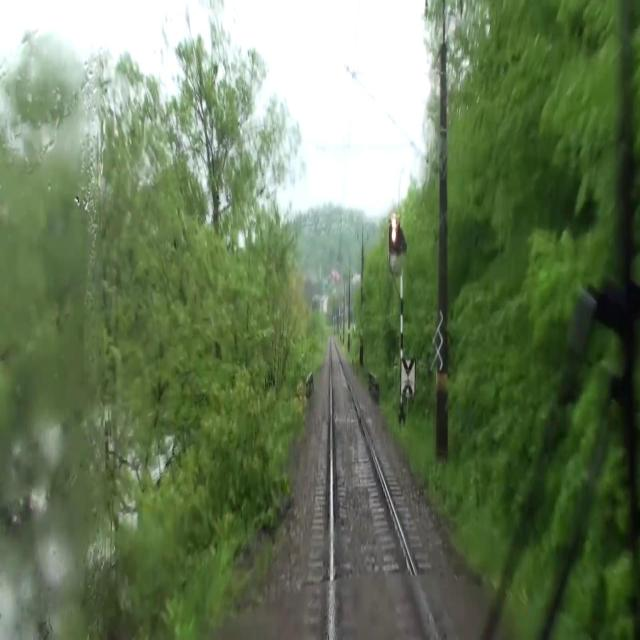rail-track: (332, 339, 435, 639)
